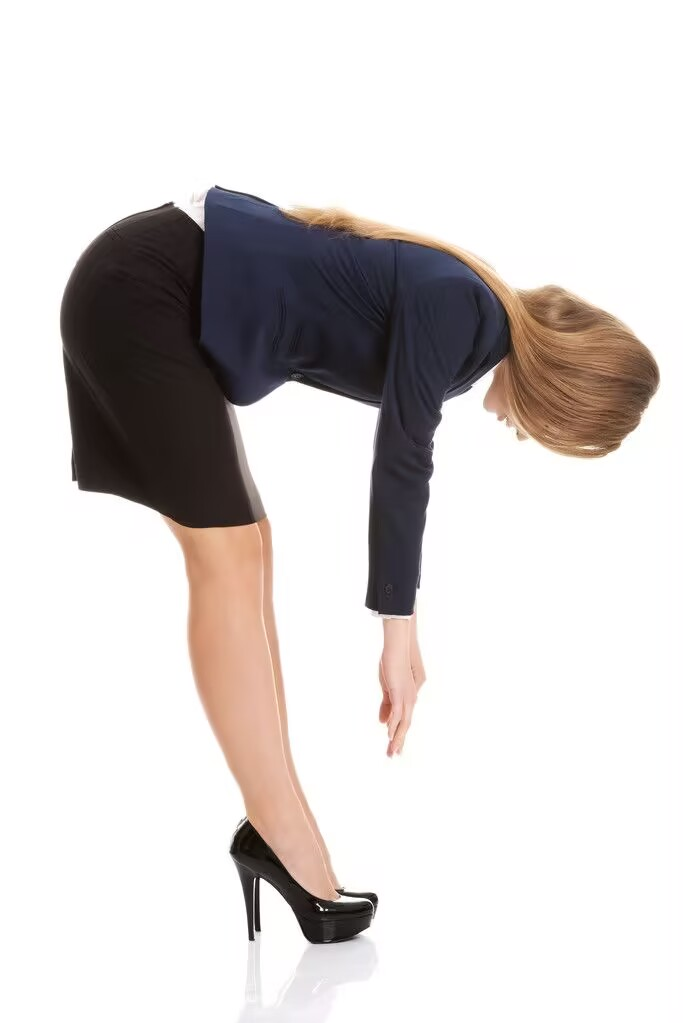bending: (37, 143, 655, 987)
